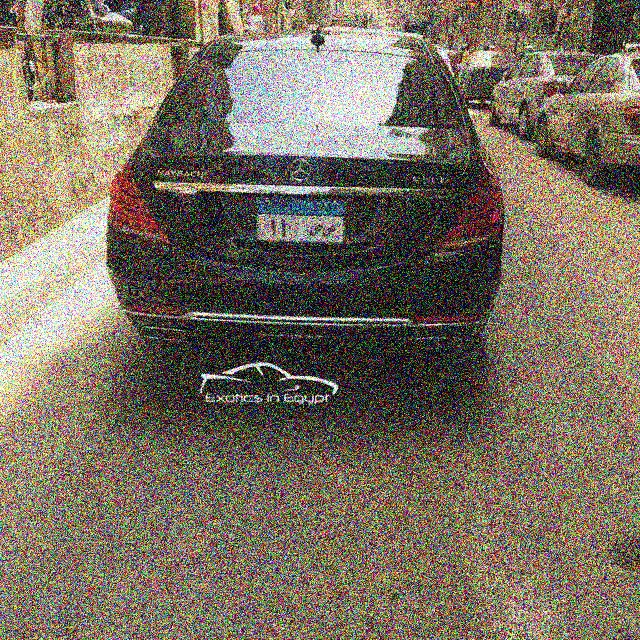License Plate: (251, 192, 349, 249)
